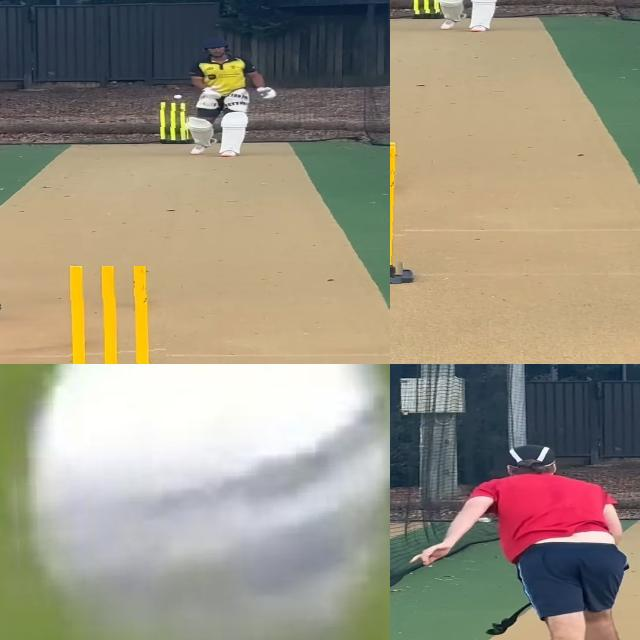Cricket ball: (8, 364, 390, 640), (172, 93, 184, 100)
Stumps: (59, 266, 166, 364), (390, 141, 410, 283), (160, 101, 190, 143), (411, 0, 440, 18)
